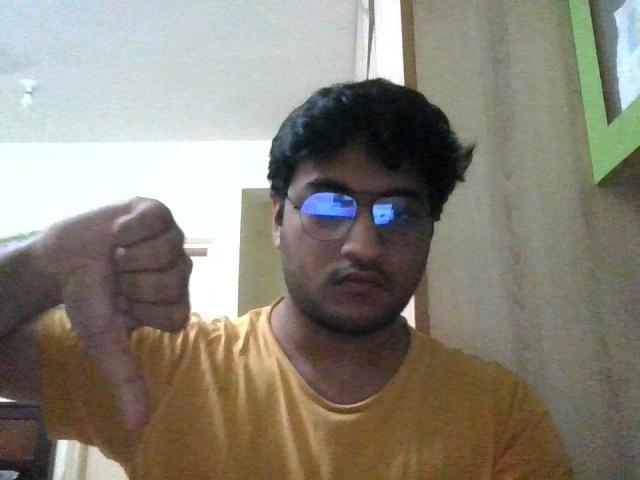thumbsdown: (64, 198, 193, 430)
